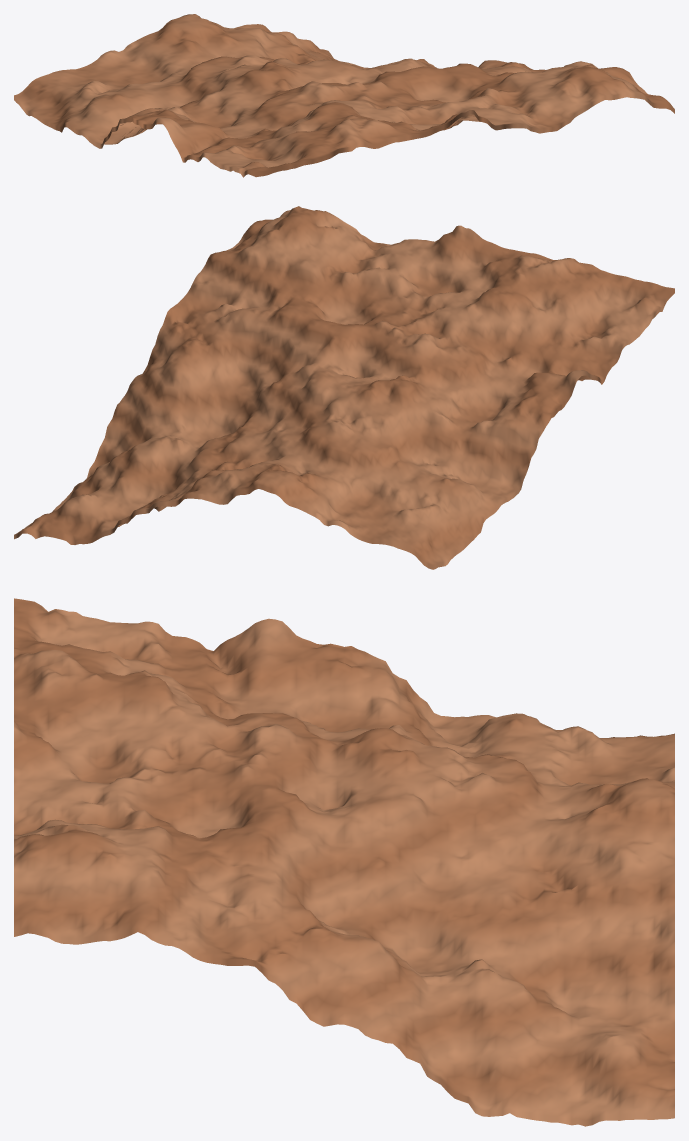
File: terrain-034.glb
3 views of the same model, one above another, from view 1: azimuth 30°, elevation 25°; view 2: azimuth 150°, elevation 25°; view 3: azimuth 270°, elevation 25° (orthographic). The views are drawn at different scales.
Visible parts, largest first — view 1: terrain-034; view 2: terrain-034; view 3: terrain-034.
Boxes of the visible parts, left/top/right/bottom form: terrain-034: left=14, top=14, right=674, bottom=177; terrain-034: left=14, top=206, right=674, bottom=569; terrain-034: left=14, top=598, right=674, bottom=1126.
Size of the model in its own units: 384 by 170 by 384.
